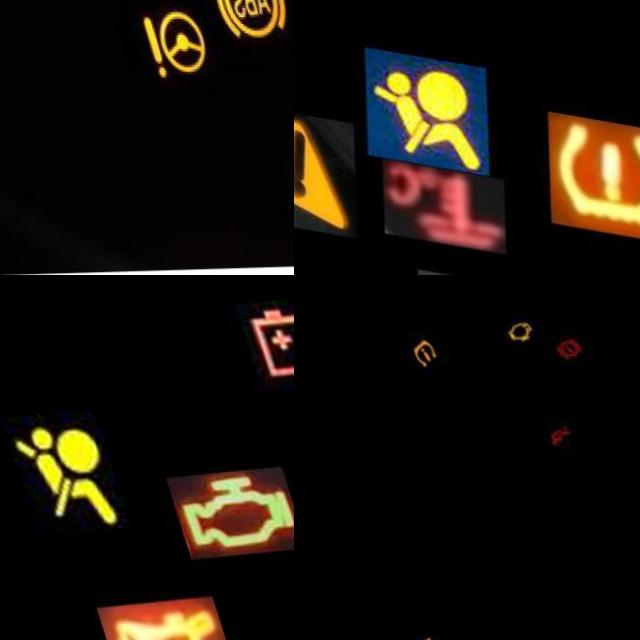Central Warning lamp: (294, 100, 368, 241)
Engine cooling system: (358, 157, 508, 259)
